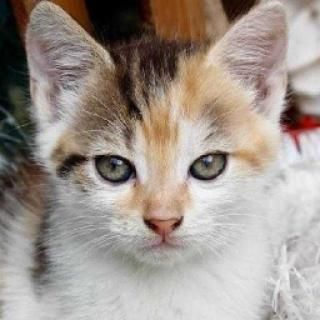cat: (22, 8, 296, 276)
nose: (142, 193, 188, 238)
